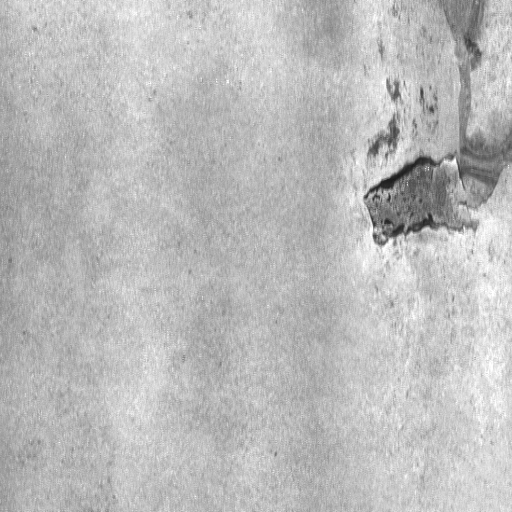qiaopi: (363, 152, 476, 249)
